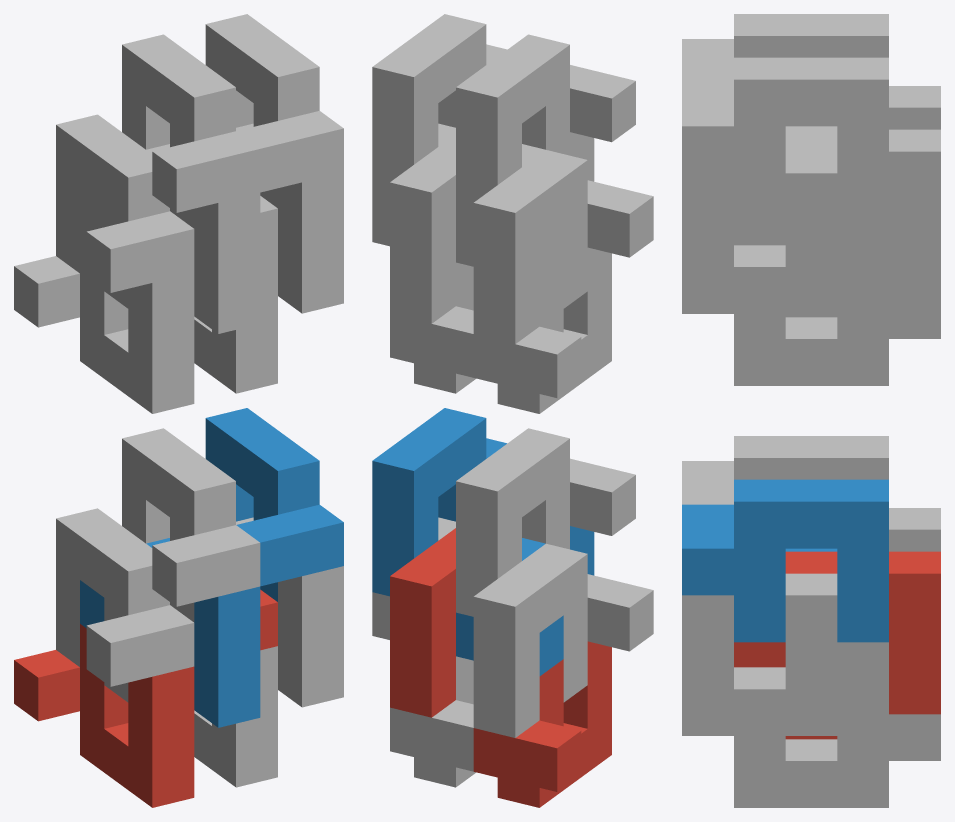
File: tiling.obj
The picture shows the model from 3 angles, left to right: view 1: azimuth 30°, elevation 25°; view 2: azimuth 150°, elevation 25°; view 3: azimuth 270°, elevation 25°; orthographic projection. The views are drawn at different scales.
Visible parts, largest first — view 1: copy_2_domain_4, copy_2_domain_2, copy_1_domain_3, copy_1_domain_1, copy_2_domain_1, copy_2_domain_3, copy_2_domain_8, copy_2_domain_6, copy_1_domain_2, copy_1_domain_4, copy_1_domain_8, copy_1_domain_6 (+4 smaller); view 2: copy_2_domain_1, copy_2_domain_3, copy_2_domain_4, copy_2_domain_2, copy_2_domain_8, copy_2_domain_6, copy_1_domain_3, copy_1_domain_1, copy_2_domain_5, copy_2_domain_7, copy_1_domain_7, copy_1_domain_5 (+4 smaller); view 3: copy_2_domain_6, copy_2_domain_8, copy_1_domain_6, copy_1_domain_8, copy_1_domain_5, copy_1_domain_7, copy_2_domain_5, copy_2_domain_7, copy_2_domain_2, copy_2_domain_4, copy_2_domain_1, copy_2_domain_3.
Boxes of the visible parts, box(x1,y1,x2,y2) form: copy_2_domain_4: box(122, 34, 260, 228); copy_2_domain_2: box(122, 428, 260, 622); copy_1_domain_3: box(14, 230, 194, 413); copy_1_domain_1: box(14, 624, 194, 807); copy_2_domain_1: box(56, 508, 194, 702); copy_2_domain_3: box(56, 114, 194, 308); copy_2_domain_8: box(205, 14, 343, 208); copy_2_domain_6: box(205, 408, 343, 601); copy_1_domain_2: box(80, 538, 260, 727); copy_1_domain_4: box(80, 144, 260, 333); copy_1_domain_8: box(236, 123, 343, 313); copy_1_domain_6: box(236, 517, 343, 707); copy_2_domain_1: box(473, 543, 653, 737); copy_2_domain_3: box(473, 150, 653, 344); copy_2_domain_4: box(456, 34, 635, 222); copy_2_domain_2: box(456, 428, 635, 616); copy_2_domain_8: box(372, 14, 507, 202); copy_2_domain_6: box(372, 408, 506, 596); copy_1_domain_3: box(473, 247, 611, 413); copy_1_domain_1: box(473, 641, 611, 807); copy_2_domain_5: box(390, 528, 455, 717); copy_2_domain_7: box(390, 134, 455, 323); copy_1_domain_7: box(390, 262, 476, 393); copy_1_domain_5: box(390, 656, 475, 787); copy_2_domain_6: box(682, 479, 888, 642); copy_2_domain_8: box(682, 57, 888, 220); copy_1_domain_6: box(682, 573, 888, 735); copy_1_domain_8: box(682, 151, 888, 313); copy_1_domain_5: box(734, 689, 940, 807); copy_1_domain_7: box(734, 267, 940, 385); copy_2_domain_5: box(734, 551, 940, 714); copy_2_domain_7: box(734, 129, 940, 292); copy_2_domain_2: box(682, 436, 888, 504); copy_2_domain_4: box(682, 14, 888, 82); copy_2_domain_1: box(889, 508, 940, 551); copy_2_domain_3: box(889, 86, 940, 129).
Bounding box in the file's own units: 5 × 16 × 5.
